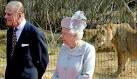lion: (94, 19, 137, 75)
